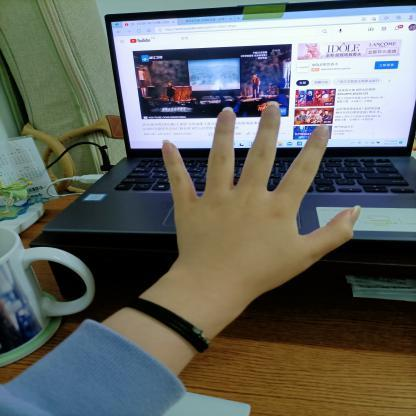bare_hand: (146, 86, 374, 306)
